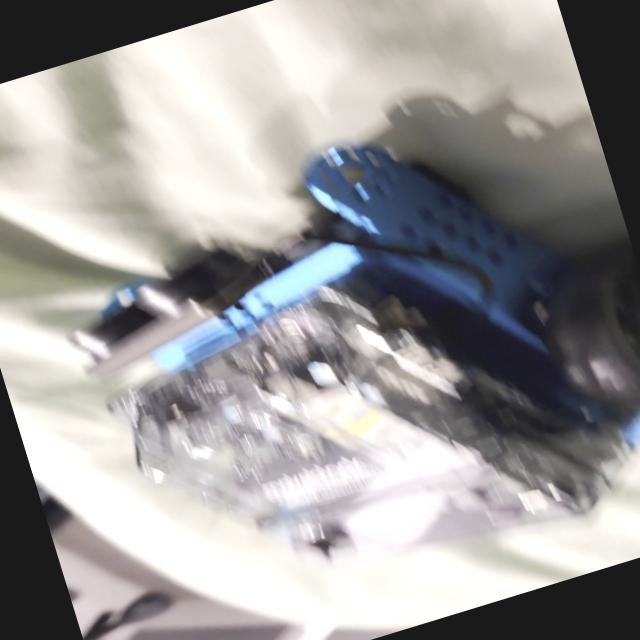mbot-detection: (17, 55, 640, 640)
